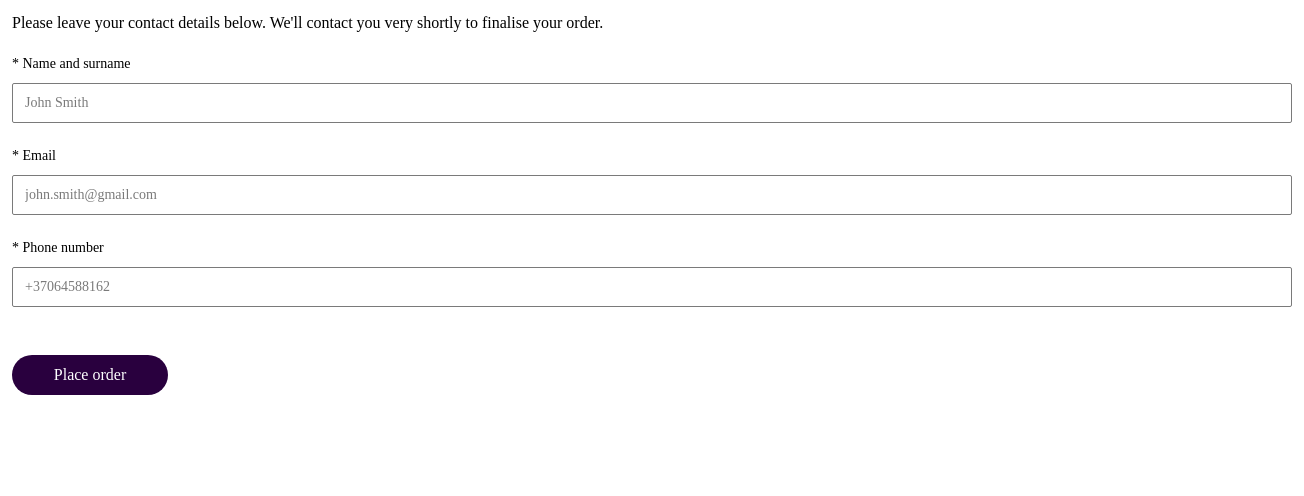
PlaceOrderForm › renders error messages when input is incorrect
Click the button "Place order".
click(90, 375)  # box [12,355,168,395]
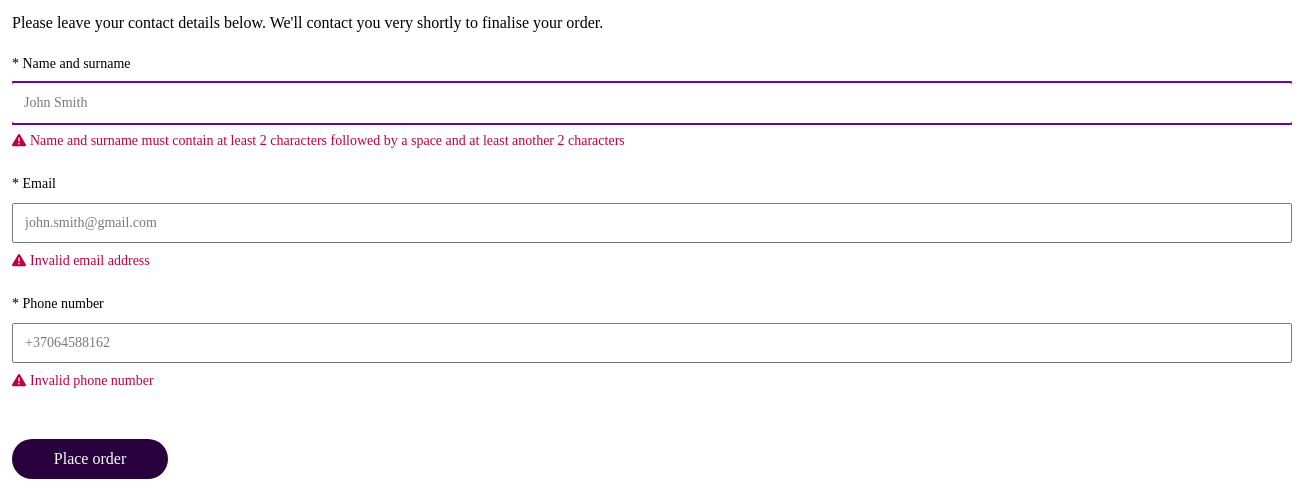
Now the text "Name and surname must contain at least 2 characters followed by a space and at least another 2 characters" is shown, box [30,133,625,148]
Now the text "Invalid email address" is shown, box [12,253,150,268]
Now the text "Invalid phone number" is shown, box [12,373,154,388]
